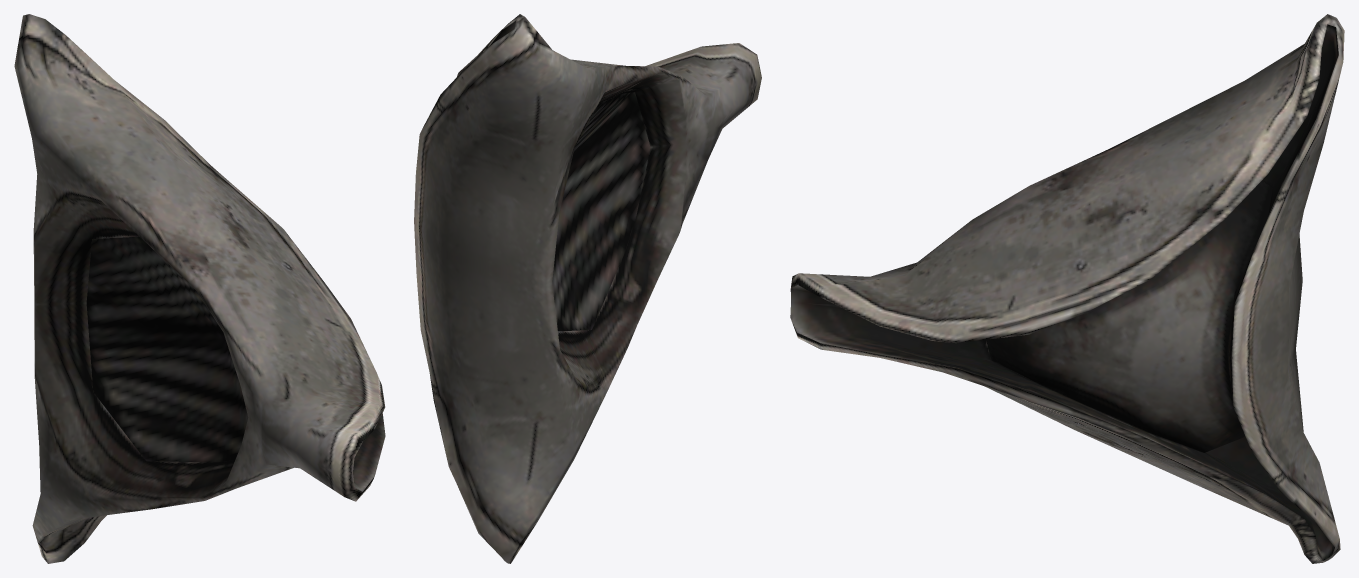
The model's file is PirateHatFemale.fbx.
The picture shows the model from 3 angles, left to right: view 1: azimuth 30°, elevation 25°; view 2: azimuth 150°, elevation 25°; view 3: azimuth 270°, elevation 25°; orthographic projection. The views are drawn at different scales.
Visible parts, largest first — view 1: BL2_X360_PROP_Pirate_Hat; view 2: BL2_X360_PROP_Pirate_Hat; view 3: BL2_X360_PROP_Pirate_Hat.
Part boxes in pixels (x1,y1,x2,y2): BL2_X360_PROP_Pirate_Hat: (14,14,385,563); BL2_X360_PROP_Pirate_Hat: (414,14,761,563); BL2_X360_PROP_Pirate_Hat: (790,14,1344,563).
Size of the model in its own units: 0.0922 by 0.2476 by 0.2299.
